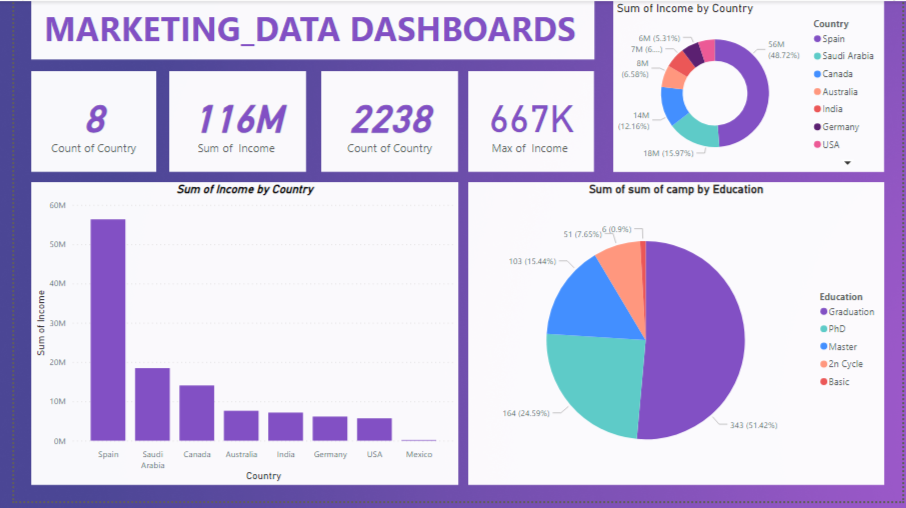

This screenshot's page, from the dashboard's own definition file:
{"tool":"powerbi","page":{"name":"Page 1","canvas":[1280,720],"ordinal":0},"visuals":[{"type":"card","fields":{"Values":["Sum(marketing_data. Income )"]},"box":[223.2,100.8,197.3,145.4],"z":0},{"type":"card","fields":{"Values":["CountNonNull(marketing_data.Country)"]},"box":[442.1,100.8,197.3,145.4],"z":1000},{"type":"card","fields":{"Values":["Count(marketing_data.Country)"]},"box":[24.5,100.8,180,145.4],"z":2000},{"type":"columnChart","fields":{"Category":["marketing_data.Country"],"Y":["Sum(marketing_data. Income )"]},"box":[24.5,260.6,614.9,436.3],"z":3000},{"type":"pieChart","fields":{"Category":["marketing_data.Education"],"Y":["Sum(marketing_data.sum of camp)"]},"box":[653.8,260.6,599,436.3],"z":4000},{"type":"textbox","box":[24.5,0,810.7,83.5],"z":5001},{"type":"donutChart","fields":{"Category":["marketing_data.Country"],"Y":["Sum(marketing_data. Income )"]},"box":[862.6,0,390.2,246.2],"z":5002},{"type":"card","fields":{"Values":["Max(marketing_data. Income )"]},"box":[653.8,100.8,181.4,145.4],"z":5003}]}

Visuals, with their boxes in screenshot pixels (x1, y1, x2, y2), scaled from the page's 1280x720 canvas onto the 906x508 screenshot:
card - Sum(marketing_data. Income ): 158/71/298/174
card - CountNonNull(marketing_data.Country): 313/71/453/174
card - Count(marketing_data.Country): 17/71/145/174
columnChart - marketing_data.Country x Sum(marketing_data. Income ): 17/184/453/492
pieChart - marketing_data.Education x Sum(marketing_data.sum of camp): 463/184/887/492
textbox: 17/0/591/59
donutChart - marketing_data.Country x Sum(marketing_data. Income ): 611/0/887/174
card - Max(marketing_data. Income ): 463/71/591/174
